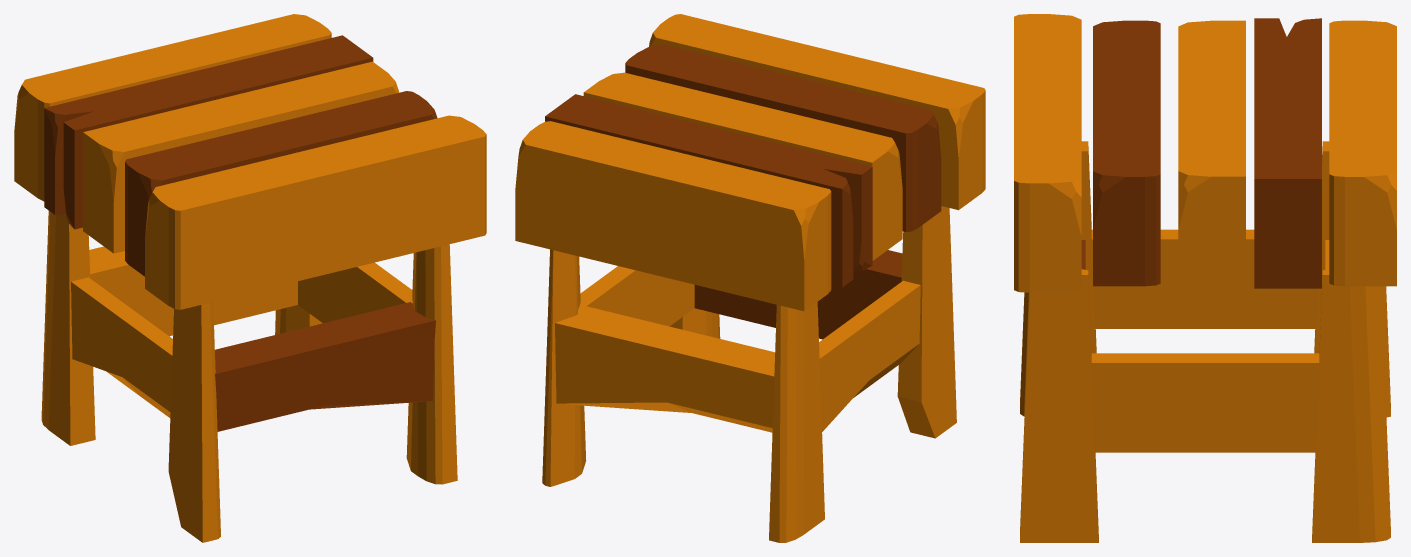
The model's file is woodchair_001.glb.
The picture shows the model from 3 angles, left to right: view 1: azimuth 30°, elevation 25°; view 2: azimuth 150°, elevation 25°; view 3: azimuth 270°, elevation 25°; orthographic projection. The views are drawn at different scales.
Parts seen in each view (by area): view 1: woodchair_001; view 2: woodchair_001; view 3: woodchair_001.
Boxes of the visible parts, left/top/right/bottom form: woodchair_001: left=14, top=14, right=486, bottom=542; woodchair_001: left=515, top=14, right=985, bottom=542; woodchair_001: left=1014, top=14, right=1396, bottom=542.
Bounding box in the file's own units: 18.53 × 19.15 × 17.7.
